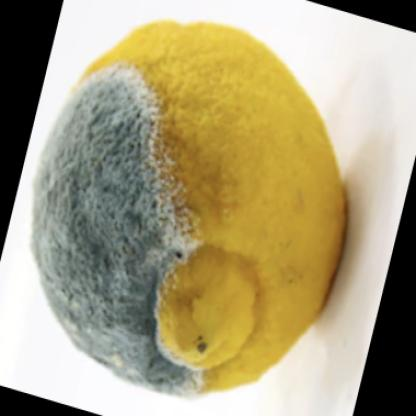rotten: (34, 20, 346, 397)
